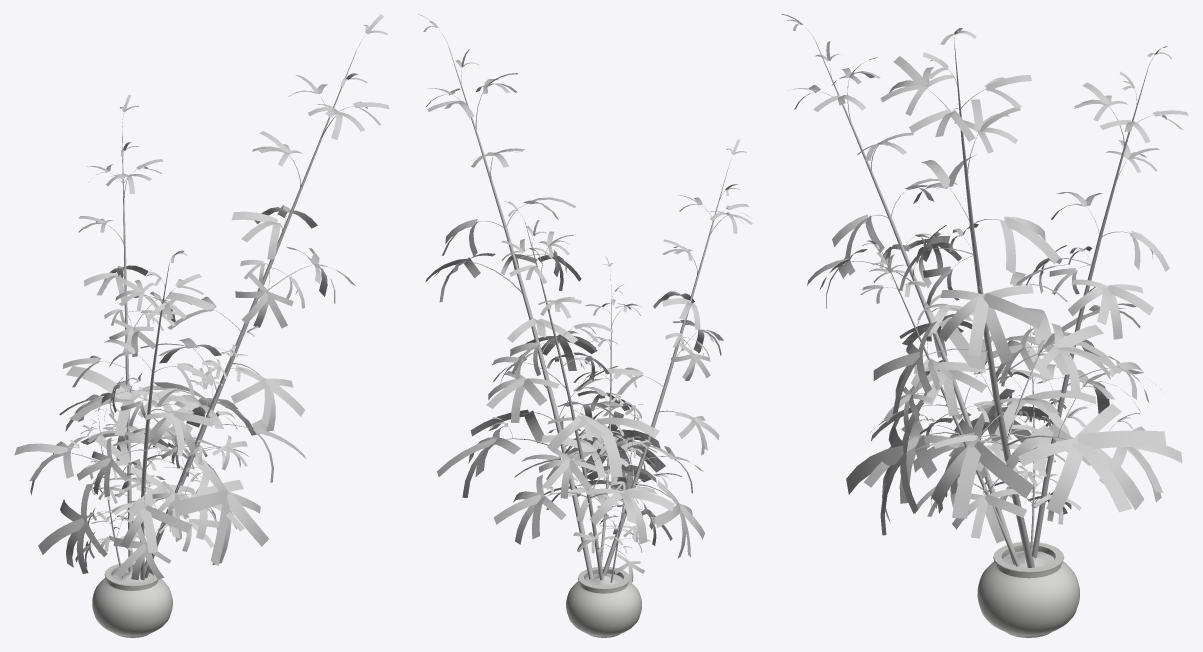
Rendered from LargePots001.FBX.
3 views of the same model, side by side, from view 1: azimuth 30°, elevation 25°; view 2: azimuth 150°, elevation 25°; view 3: azimuth 270°, elevation 25° (orthographic). The views are drawn at different scales.
Visible parts, largest first — view 1: LargePots001; view 2: LargePots001; view 3: LargePots001.
Part boxes in pixels (box(x1,y1,x2,y2)): LargePots001: box(14, 14, 389, 637); LargePots001: box(418, 14, 752, 637); LargePots001: box(781, 14, 1188, 637).
Size of the model in its own units: 6.9 by 12.1 by 6.07.
